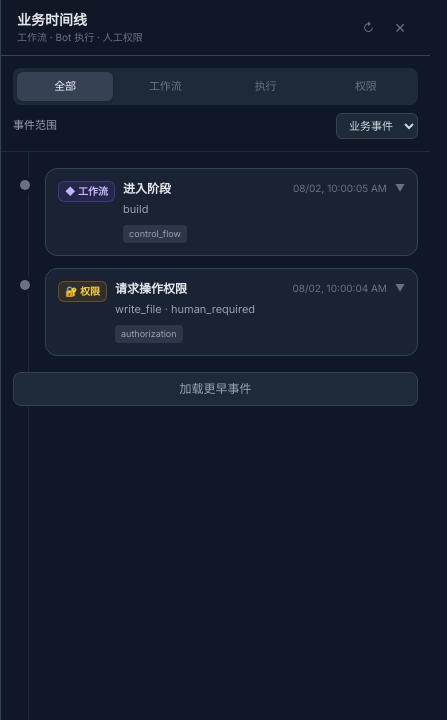
Test: TimelinePanel › expands correlation IDs and payload details
Step 1. Click the heading "请求操作权限" → [151, 288], box [115,280,187,296]
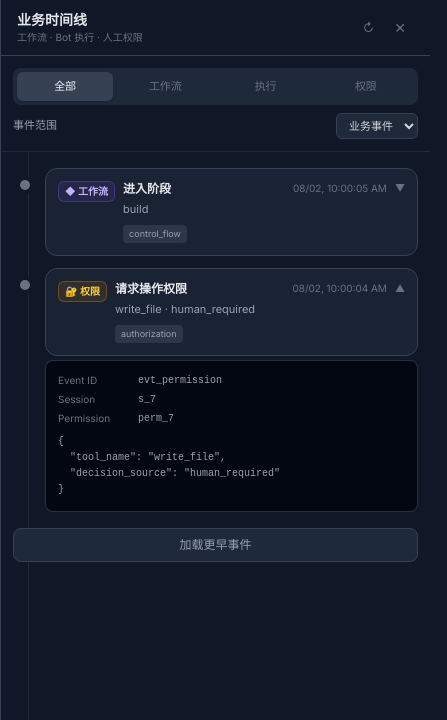
Expected: the text "write_file · human_required" is shown, [115,302,255,316]
Expected: the text "perm_7" is shown, [138,412,174,424]
